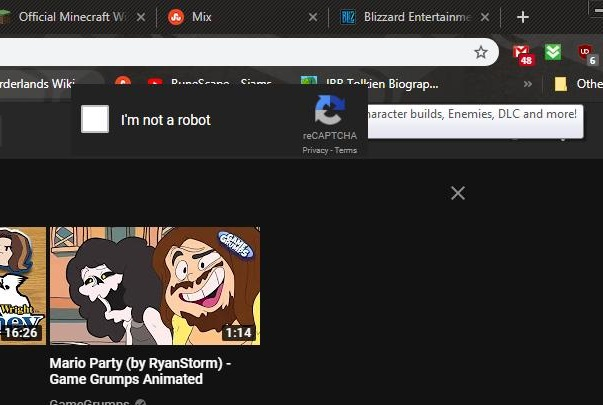captcha: (81, 104, 212, 134)
